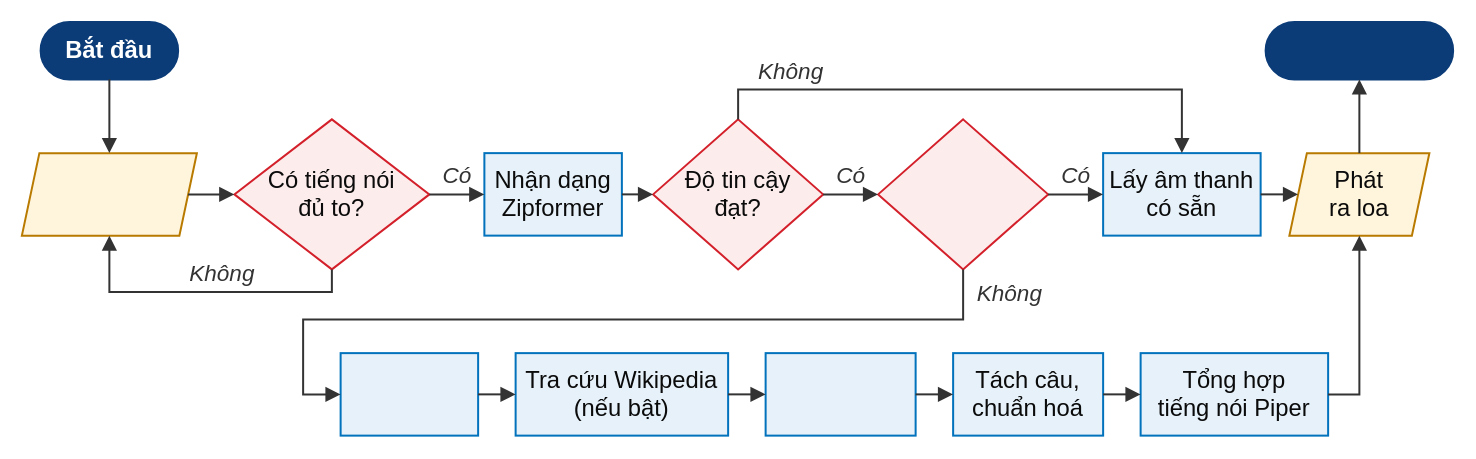
This 1476x459 diagram has some shape labels left out. The shapes that lost their labels are listed below. From the top down, each one's box as (x1, y1, x2, y2) in pixels, then its label:
(1264, 20, 1454, 80): Kết thúc lượt
(20, 152, 197, 236): Thu âm từ micro
(876, 118, 1048, 270): Có câu trả lời sẵn?
(339, 352, 478, 436): Phát tiếng “Dạ.”
(764, 352, 916, 436): LLM sinh câu trả lời
